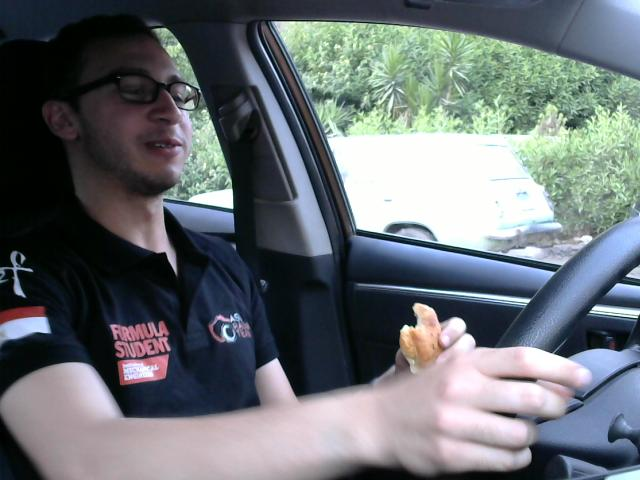Eating: (383, 300, 456, 374)
